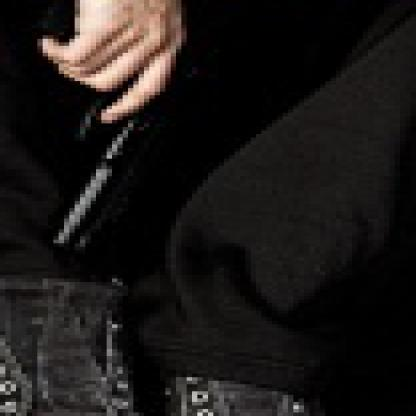gun: (21, 0, 192, 254)
